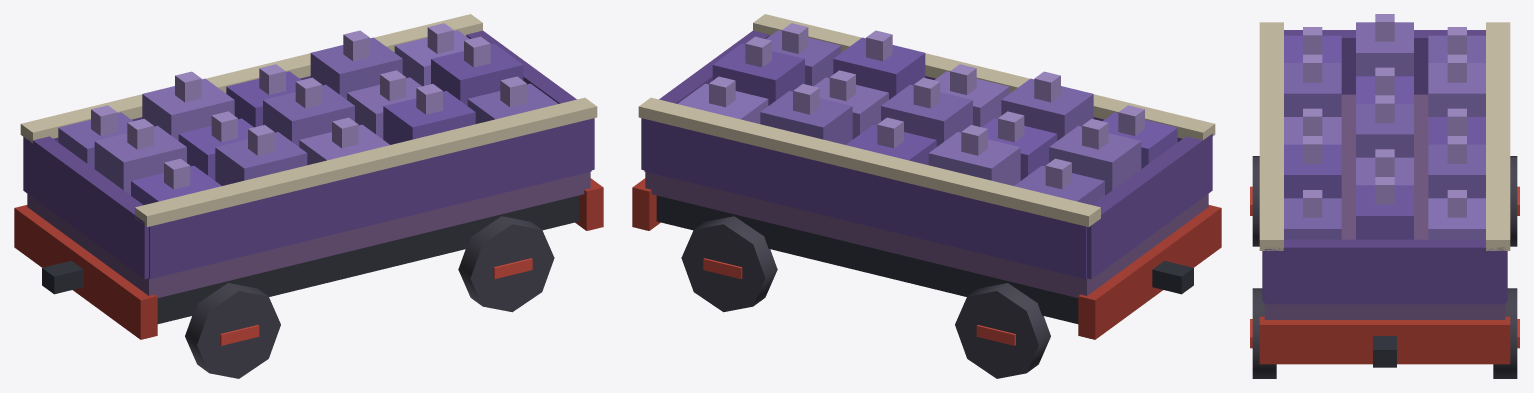
The model's file is car_05.glb.
3 views of the same model, side by side, from view 1: azimuth 30°, elevation 25°; view 2: azimuth 150°, elevation 25°; view 3: azimuth 270°, elevation 25° (orthographic).
Visible parts, largest first — view 1: car_05, Wheel3, Wheel1; view 2: car_05, Wheel2, Wheel0; view 3: car_05, Wheel2, Wheel3, Wheel0, Wheel1.
Boxes of the visible parts, left/top/right/bottom form: car_05: left=14, top=14, right=603, bottom=339; Wheel3: left=458, top=216, right=554, bottom=312; Wheel1: left=185, top=283, right=280, bottom=378; car_05: left=632, top=14, right=1221, bottom=339; Wheel2: left=681, top=216, right=777, bottom=312; Wheel0: left=955, top=283, right=1050, bottom=378; car_05: left=1259, top=14, right=1510, bottom=367; Wheel2: left=1493, top=288, right=1519, bottom=378; Wheel3: left=1250, top=288, right=1276, bottom=378; Wheel0: left=1510, top=156, right=1519, bottom=246; Wheel1: left=1250, top=156, right=1259, bottom=246.
Bounding box in the file's own units: 2.48 × 0.97 × 1.12.
